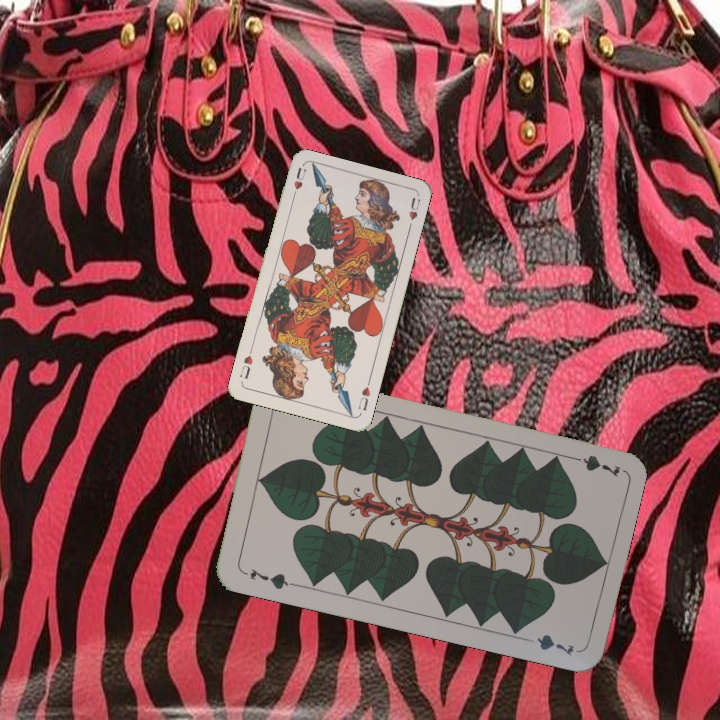G7: (563, 451, 622, 480), (238, 564, 297, 592)
HU: (288, 163, 308, 203), (354, 376, 373, 413)
